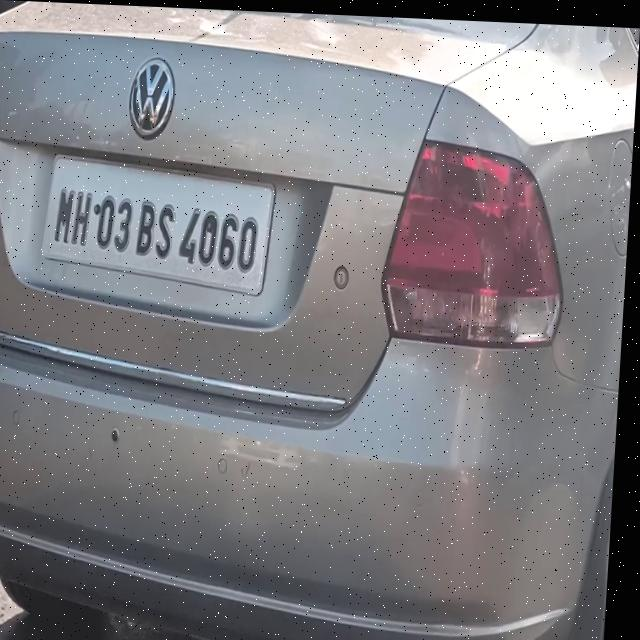plate: (44, 153, 280, 298)
